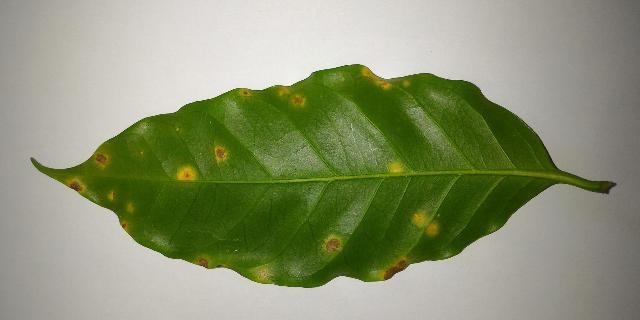miner: (378, 256, 409, 281), (362, 66, 392, 89), (413, 212, 438, 235), (92, 146, 111, 169), (62, 177, 86, 195), (193, 257, 227, 268), (174, 166, 196, 181), (322, 235, 341, 252), (213, 146, 227, 162), (255, 267, 268, 283), (388, 162, 402, 175), (291, 95, 305, 106), (119, 220, 129, 233), (278, 86, 290, 96), (239, 88, 252, 97), (108, 192, 115, 200), (128, 203, 133, 211), (403, 80, 409, 86)
